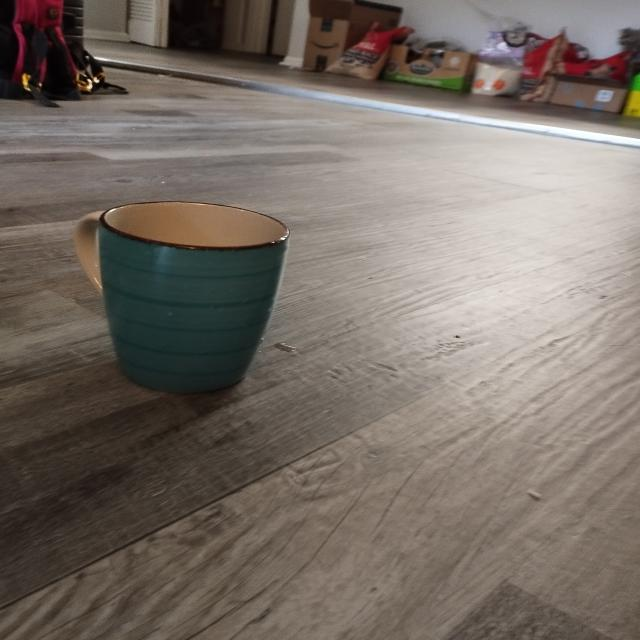Cup: (68, 184, 308, 409)
